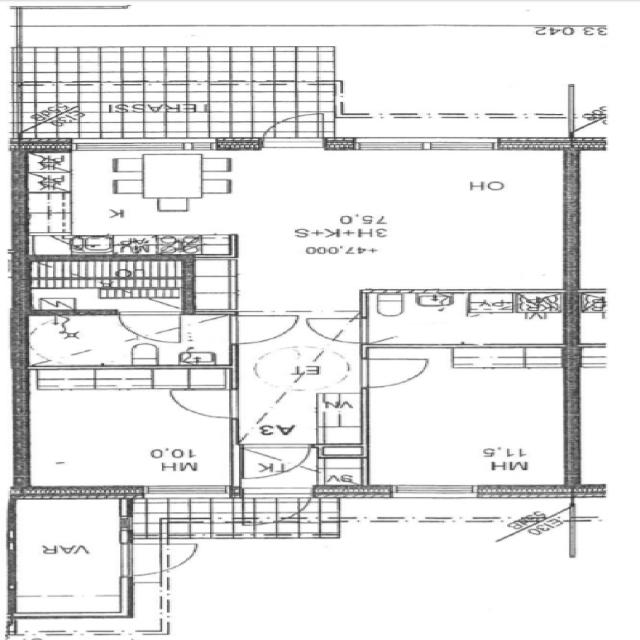door: (234, 440, 320, 482), (119, 538, 204, 578), (250, 112, 332, 153), (107, 306, 189, 344), (159, 386, 241, 422), (356, 356, 434, 392), (225, 311, 300, 346), (306, 312, 368, 347)
window: (341, 135, 508, 155), (65, 136, 225, 154), (377, 480, 491, 502)
zone: (117, 149, 576, 294), (151, 524, 590, 640), (361, 346, 578, 491), (22, 365, 232, 489), (20, 144, 230, 255), (9, 496, 132, 619), (362, 289, 576, 348), (19, 310, 226, 368), (24, 249, 192, 310)
